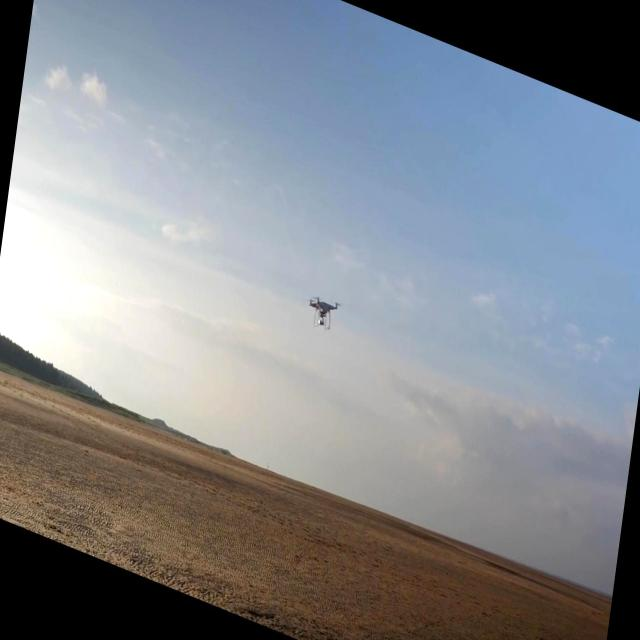drone: (304, 287, 343, 339)
